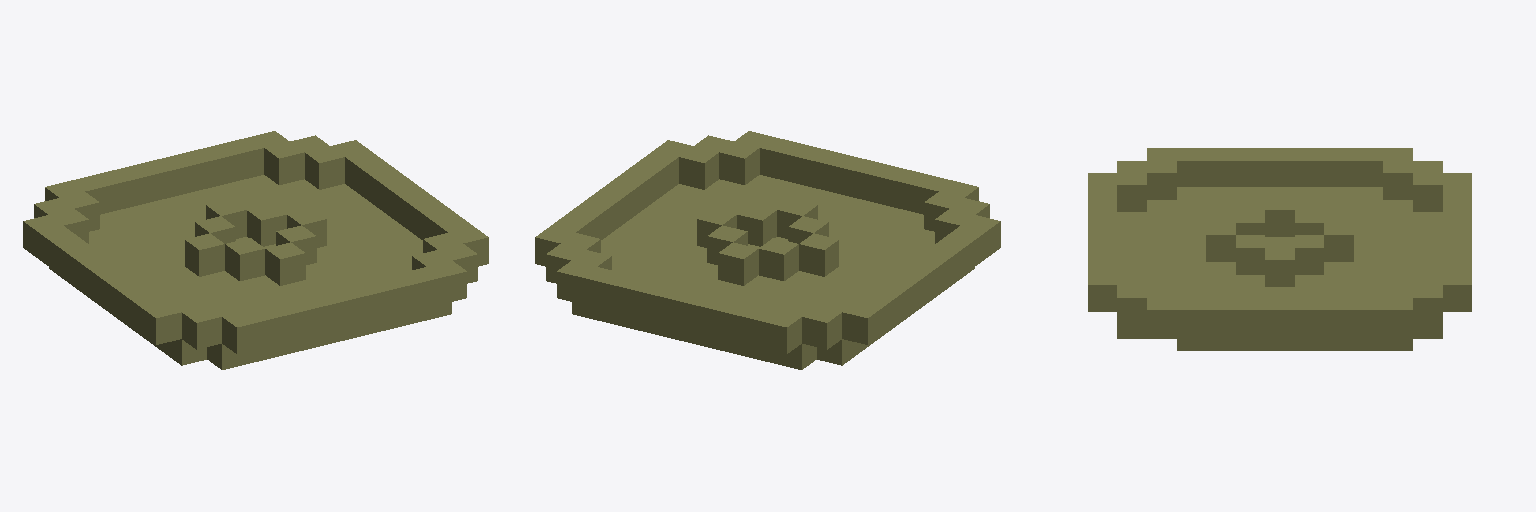
The picture shows the model from 3 angles: view 1: azimuth 30°, elevation 25°; view 2: azimuth 150°, elevation 25°; view 3: azimuth 270°, elevation 25°; orthographic projection.
Size of the model in its own units: 13 by 2 by 13.
Materials: 1 (1 with a texture image).